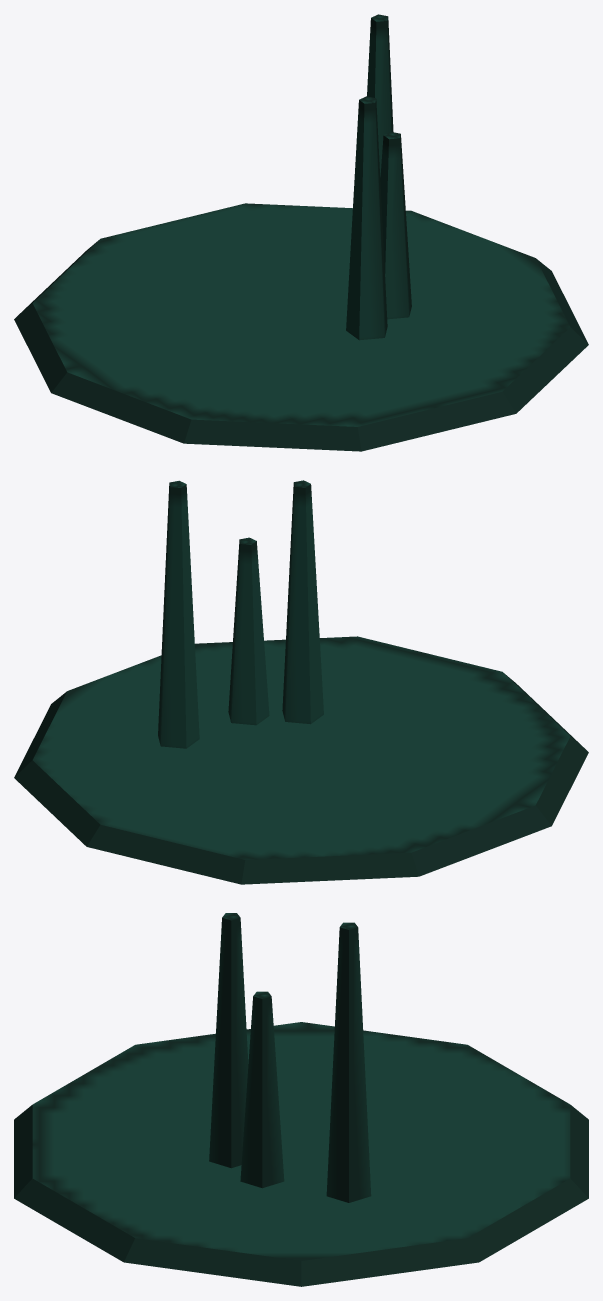
The model's file is MossTuft.obj.
The picture shows the model from 3 angles, top to bottom: view 1: azimuth 30°, elevation 25°; view 2: azimuth 150°, elevation 25°; view 3: azimuth 270°, elevation 25°; orthographic projection. The views are drawn at different scales.
Parts seen in each view (by area): view 1: MossTuft; view 2: MossTuft; view 3: MossTuft.
Boxes of the visible parts, <box> form: MossTuft: <box>14,14,588,451</box>; MossTuft: <box>14,480,588,884</box>; MossTuft: <box>14,913,588,1286</box>.
Size of the model in its own units: 1.24 by 0.6448 by 1.18.
1 material, 1 textured.
